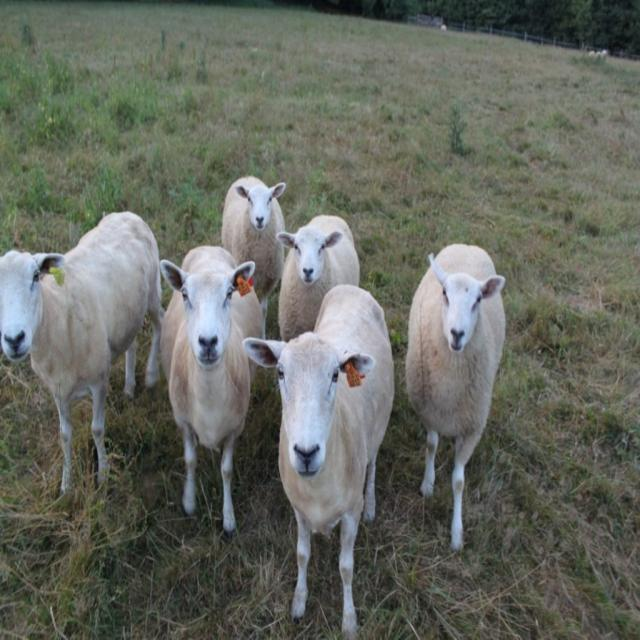Sheep: (0, 177, 505, 639)
